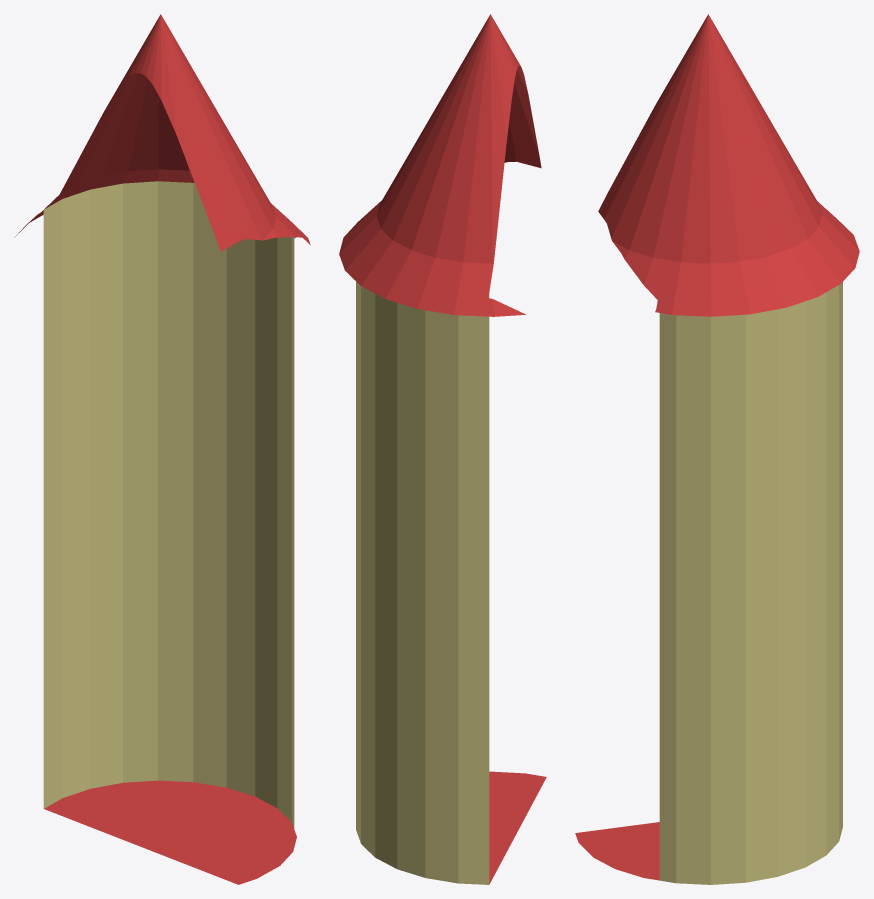
3 renders of one model, left to right at view 1: azimuth 30°, elevation 25°; view 2: azimuth 150°, elevation 25°; view 3: azimuth 270°, elevation 25°, orthographic.
Size of the model in its own units: 3.84 by 4.27 by 13.48.
